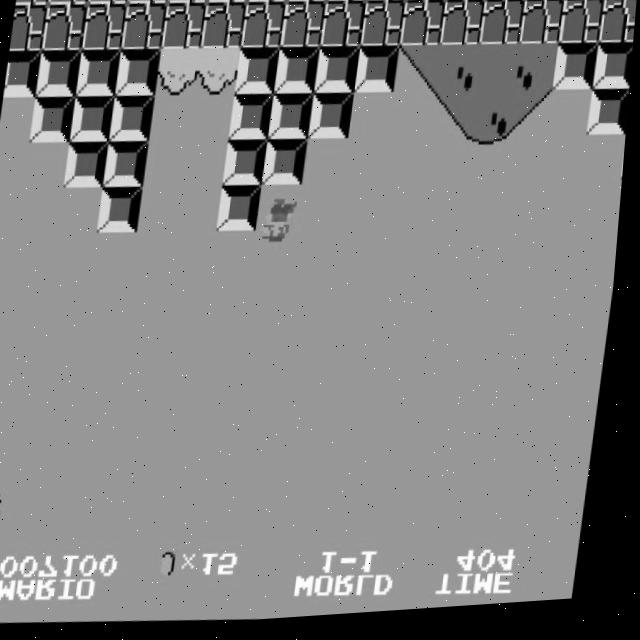11- little_mario: (258, 201, 307, 254)
17- undestructible_block: (42, 3, 88, 54), (82, 3, 128, 54), (201, 3, 247, 54), (241, 3, 287, 54), (281, 3, 327, 54), (440, 3, 486, 54), (480, 3, 526, 54), (122, 3, 168, 53), (162, 3, 208, 53), (321, 3, 367, 53), (361, 3, 407, 53), (400, 3, 446, 53), (520, 3, 566, 53), (560, 3, 606, 53), (600, 3, 638, 53), (11, 4, 48, 54), (326, 0, 370, 8), (445, 0, 489, 8), (485, 0, 529, 8), (525, 0, 569, 8), (565, 0, 609, 8), (207, 0, 250, 8), (246, 0, 289, 8), (286, 0, 329, 8), (366, 0, 409, 8), (406, 0, 449, 8), (47, 0, 90, 7), (87, 0, 130, 7), (127, 0, 170, 7), (167, 0, 210, 7), (15, 0, 49, 7), (605, 0, 639, 7)
9- hard_block: (100, 187, 147, 237), (225, 141, 272, 191), (37, 49, 83, 100), (77, 49, 123, 100), (116, 49, 162, 100), (220, 186, 266, 237), (276, 49, 322, 100), (316, 49, 362, 100), (554, 49, 600, 100), (32, 95, 78, 145), (71, 95, 117, 145), (111, 95, 157, 145), (230, 95, 276, 145), (236, 50, 282, 100), (270, 95, 316, 145), (310, 95, 356, 145), (355, 49, 401, 99), (66, 142, 112, 191), (106, 142, 152, 191), (265, 141, 311, 190), (589, 94, 632, 145), (594, 49, 635, 99), (5, 50, 42, 100), (624, 143, 629, 189)
